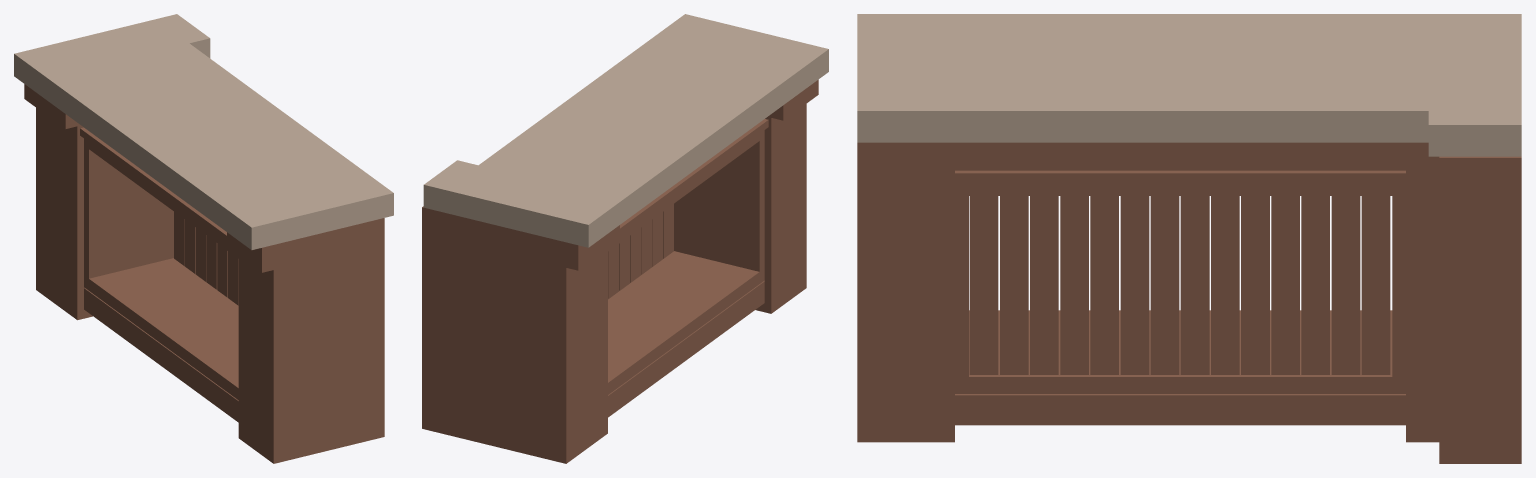
File: BarTable.fbx
3 renders of one model, left to right at view 1: azimuth 30°, elevation 25°; view 2: azimuth 150°, elevation 25°; view 3: azimuth 270°, elevation 25°, orthographic. The views are drawn at different scales.
Visible parts, largest first — view 1: BarCounter.001; view 2: BarCounter.001; view 3: BarCounter.001.
Boxes of the visible parts, bbox=[...] form: BarCounter.001: bbox=[14, 14, 393, 463]; BarCounter.001: bbox=[422, 14, 828, 463]; BarCounter.001: bbox=[857, 14, 1521, 463].
Bounding box in the file's own units: 67.17 × 94.23 × 168.
